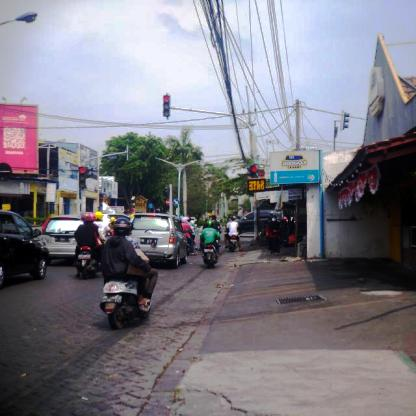Traffic Light -Red-: (162, 95, 172, 118), (78, 166, 86, 190)
